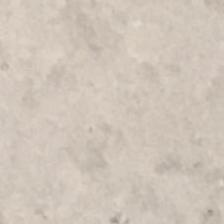Non_Crack: (23, 11, 224, 224)
